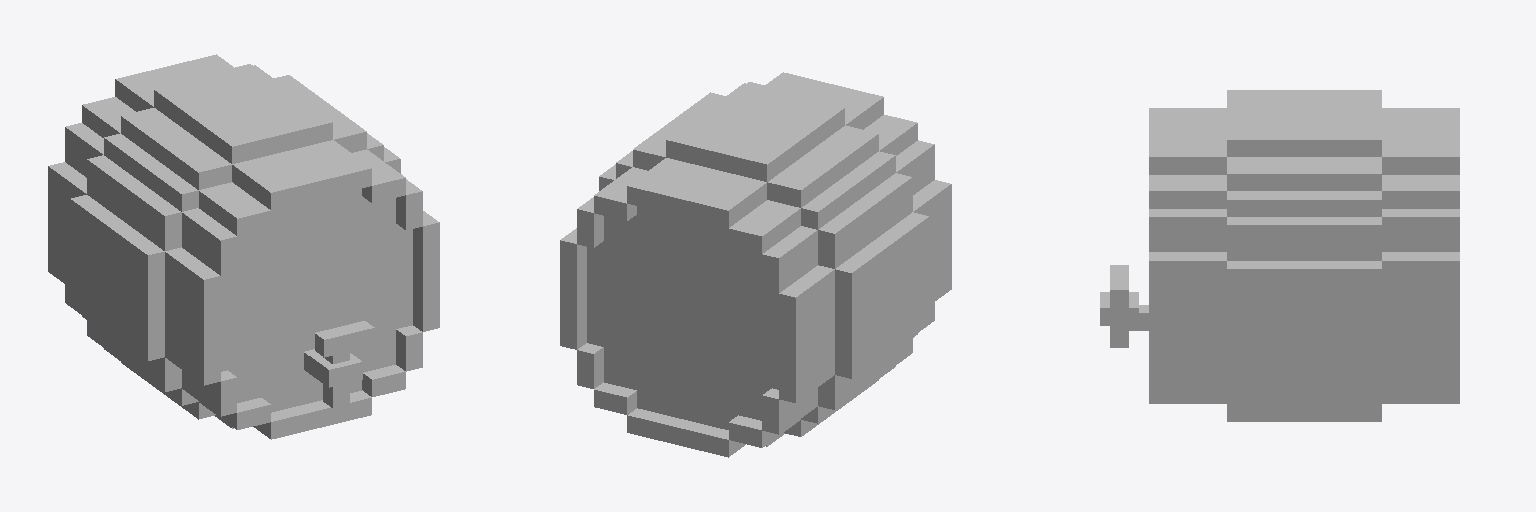
Rendered from 649_beertap.obj.
The picture shows the model from 3 angles: view 1: azimuth 30°, elevation 25°; view 2: azimuth 150°, elevation 25°; view 3: azimuth 270°, elevation 25°; orthographic projection.
Parts seen in each view (by area): view 1: Lid3, Mid13, Mid9, Top10, Top7, Lid4, Mid12, Mid10, Lid2, Bot10, Mid11, Top4 (+19 smaller); view 2: Base3, Mid13, Mid9, Bot10, Bot7, Base2, Base4, Mid12, Mid10, Top10, Mid11, Bot4 (+16 smaller); view 3: Mid5, Mid9, Bot4, Top4, Mid6, Mid8, Bot7, Top7, Mid4, Mid7, Bot5, Top5 (+10 smaller).
Boxes of the visible parts, x1=… form: Lid3: x1=221, y1=224, x2=412, y2=371; Mid13: x1=70, y1=195, x2=164, y2=360; Mid9: x1=154, y1=65, x2=332, y2=163; Top10: x1=165, y1=247, x2=220, y2=385; Top7: x1=232, y1=140, x2=371, y2=210; Lid4: x1=237, y1=196, x2=395, y2=261; Mid12: x1=87, y1=155, x2=181, y2=250; Mid10: x1=121, y1=108, x2=231, y2=189; Lid2: x1=228, y1=329, x2=395, y2=402; Bot10: x1=48, y1=162, x2=86, y2=286; Mid11: x1=104, y1=133, x2=198, y2=211; Top4: x1=413, y1=211, x2=439, y2=331; Base3: x1=587, y1=241, x2=778, y2=389; Mid13: x1=835, y1=212, x2=929, y2=378; Mid9: x1=666, y1=83, x2=844, y2=181; Bot10: x1=779, y1=265, x2=834, y2=402; Bot7: x1=627, y1=158, x2=766, y2=227; Base2: x1=604, y1=347, x2=771, y2=420; Base4: x1=604, y1=214, x2=761, y2=279; Mid12: x1=818, y1=173, x2=912, y2=268; Mid10: x1=767, y1=125, x2=878, y2=207; Top10: x1=913, y1=180, x2=951, y2=304; Mid11: x1=801, y1=151, x2=895, y2=229; Bot4: x1=560, y1=228, x2=586, y2=349; Mid5: x1=1227, y1=261, x2=1381, y2=374; Mid9: x1=1227, y1=90, x2=1381, y2=156; Bot4: x1=1382, y1=252, x2=1459, y2=365; Top4: x1=1149, y1=252, x2=1226, y2=365; Mid6: x1=1227, y1=217, x2=1381, y2=260; Mid8: x1=1227, y1=157, x2=1381, y2=190; Bot7: x1=1382, y1=108, x2=1459, y2=174; Top7: x1=1149, y1=108, x2=1226, y2=174; Mid4: x1=1227, y1=375, x2=1381, y2=401; Mid7: x1=1227, y1=191, x2=1381, y2=216; Bot5: x1=1382, y1=209, x2=1459, y2=251; Top5: x1=1149, y1=209, x2=1226, y2=251.
Bounding box in the file's own units: 3 × 3 × 3.47.